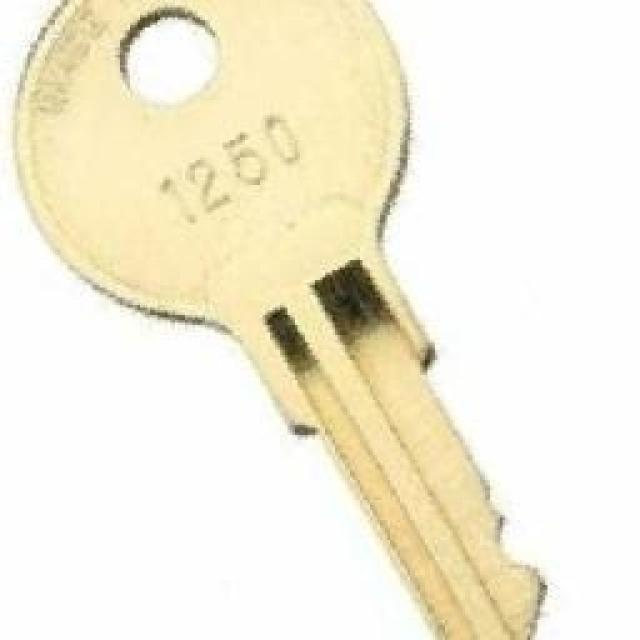anahtar: (0, 0, 552, 640)
